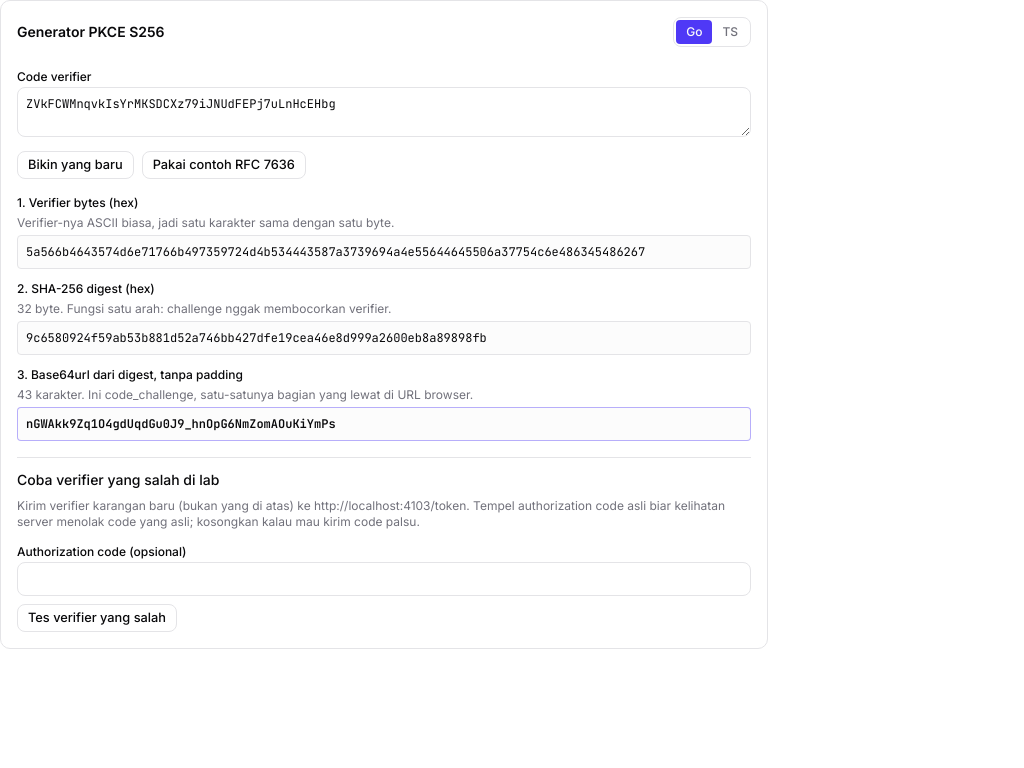
Scenario: PkceGenerator › shows the offline card with the start command when the lab is down
The width and height of the screenshot is (1024, 768).
Click the button "Tes verifier yang salah".
click(97, 618)  # box top-left (17, 604), bottom-right (177, 632)
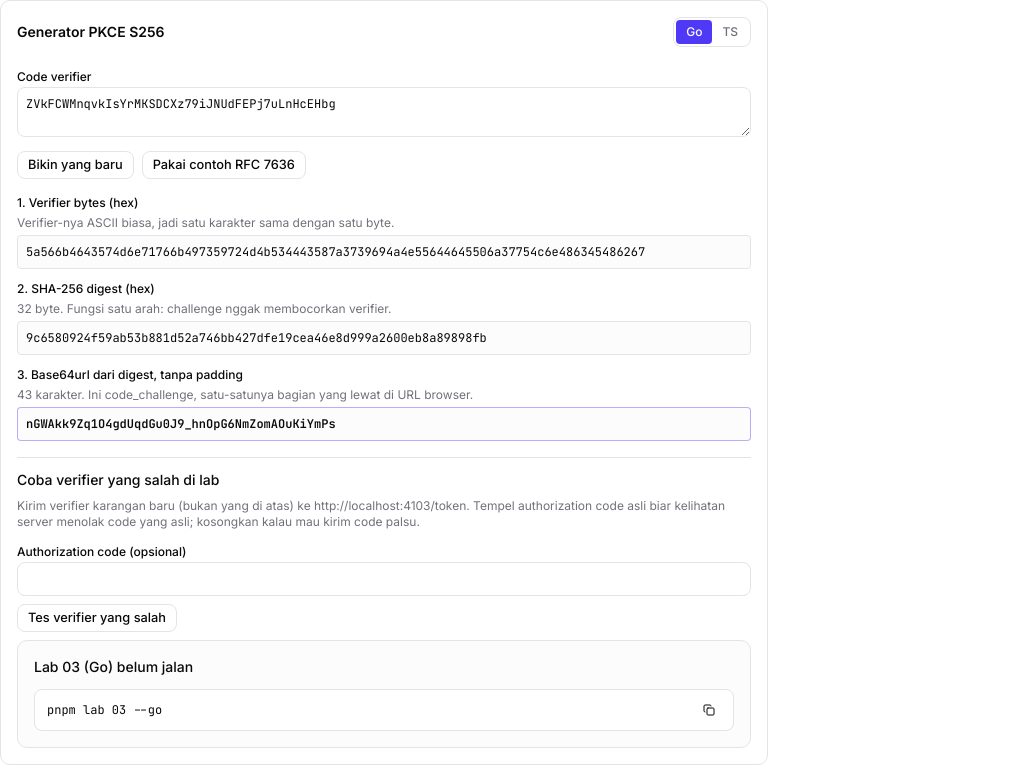
expect the text "Lab 03 (Go) belum jalan" is shown: met, box top-left (34, 658), bottom-right (193, 675)
expect the text "pnpm lab 03 --go" is shown: met, box top-left (47, 702), bottom-right (162, 718)
